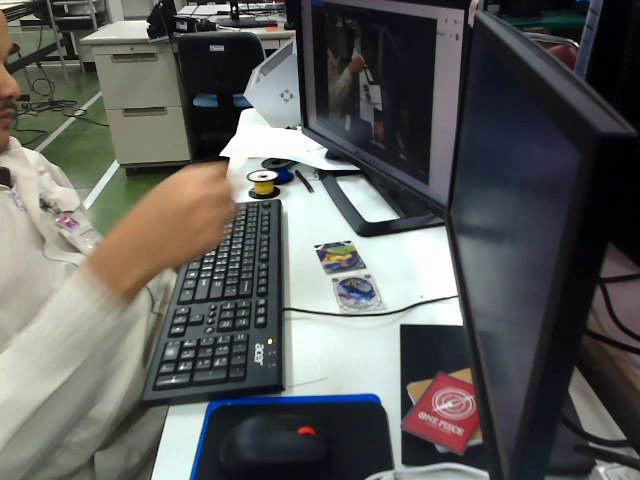can: (325, 276, 388, 310)
